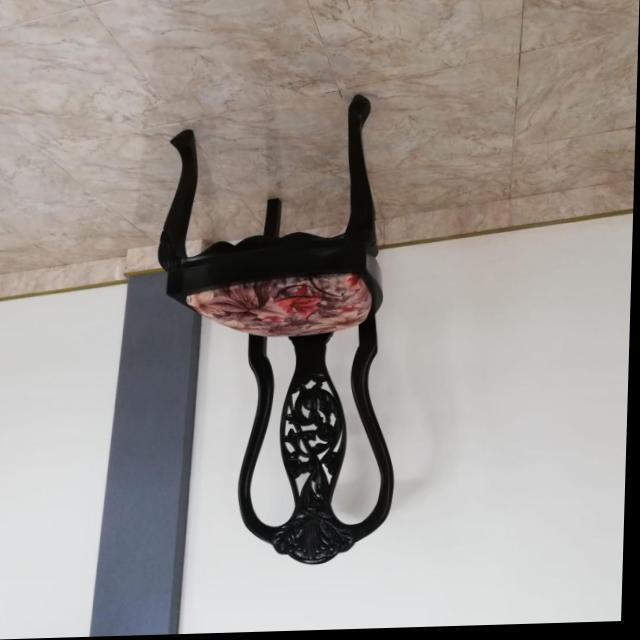Chair: (150, 96, 408, 571)
